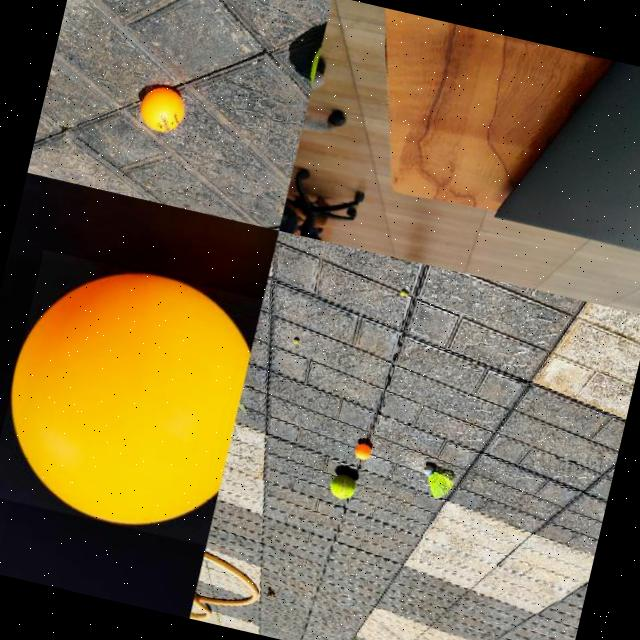ping-pong-ball: (0, 245, 262, 544), (136, 84, 190, 136), (354, 442, 372, 461)
